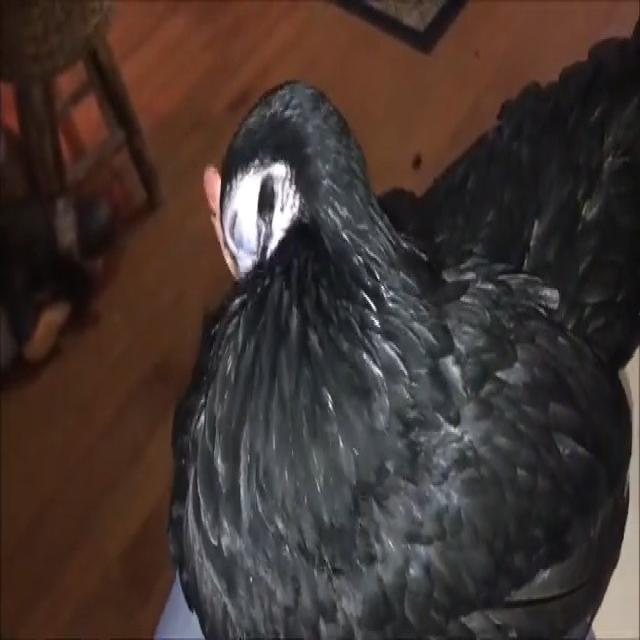self preening: (175, 34, 640, 640)
